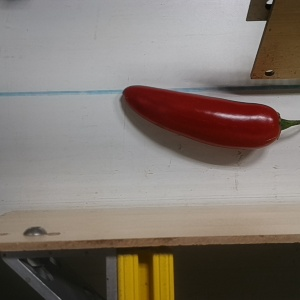Cut Point: (264, 104, 291, 147)
